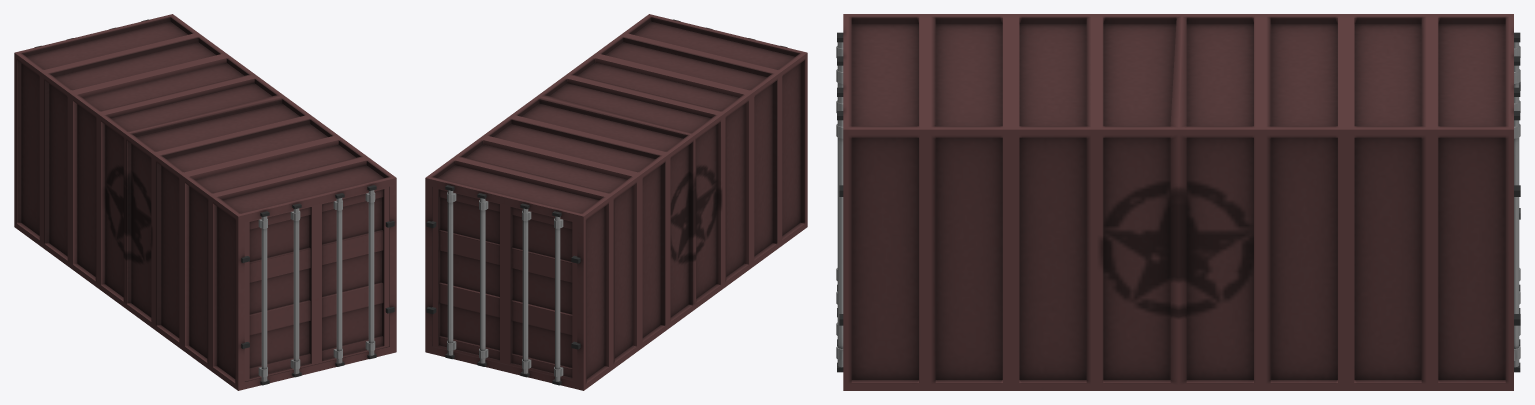
The model's file is Container_Red.fbx.
3 views of the same model, side by side, from view 1: azimuth 30°, elevation 25°; view 2: azimuth 150°, elevation 25°; view 3: azimuth 270°, elevation 25° (orthographic). The views are drawn at different scales.
Visible parts, largest first — view 1: Container_Body_Red, Container_Door_Red_1, Container_Door_Red_2, Container_Pole_1 (×2), Container_Pole_2 (×2); view 2: Container_Body_Red, Container_Door_Red_4, Container_Door_Red_3, Container_Pole_2 (×2), Container_Pole_1 (×2); view 3: Container_Body_Red, Container_Pole_1 (×2).
Part boxes in pixels (box(x1,y1,x2,y2)): Container_Body_Red: box(14, 14, 396, 390); Container_Door_Red_1: box(317, 187, 389, 363); Container_Door_Red_2: box(244, 204, 316, 381); Container_Pole_1 (×2): box(258, 190, 375, 381); Container_Pole_2 (×2): box(290, 198, 342, 373); Container_Body_Red: box(425, 14, 807, 390); Container_Door_Red_4: box(432, 187, 505, 363); Container_Door_Red_3: box(505, 204, 577, 381); Container_Pole_2 (×2): box(479, 198, 531, 373); Container_Pole_1 (×2): box(447, 190, 563, 381); Container_Body_Red: box(837, 14, 1520, 390); Container_Pole_1 (×2): box(836, 120, 1520, 367).
Bounding box in the file's own units: 4.44 × 4.67 × 11.09.
